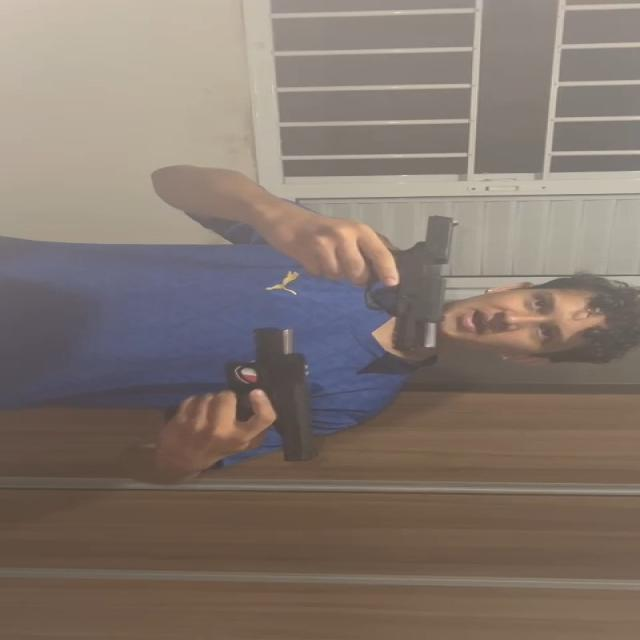gun: (360, 214, 458, 352), (226, 326, 318, 460)
